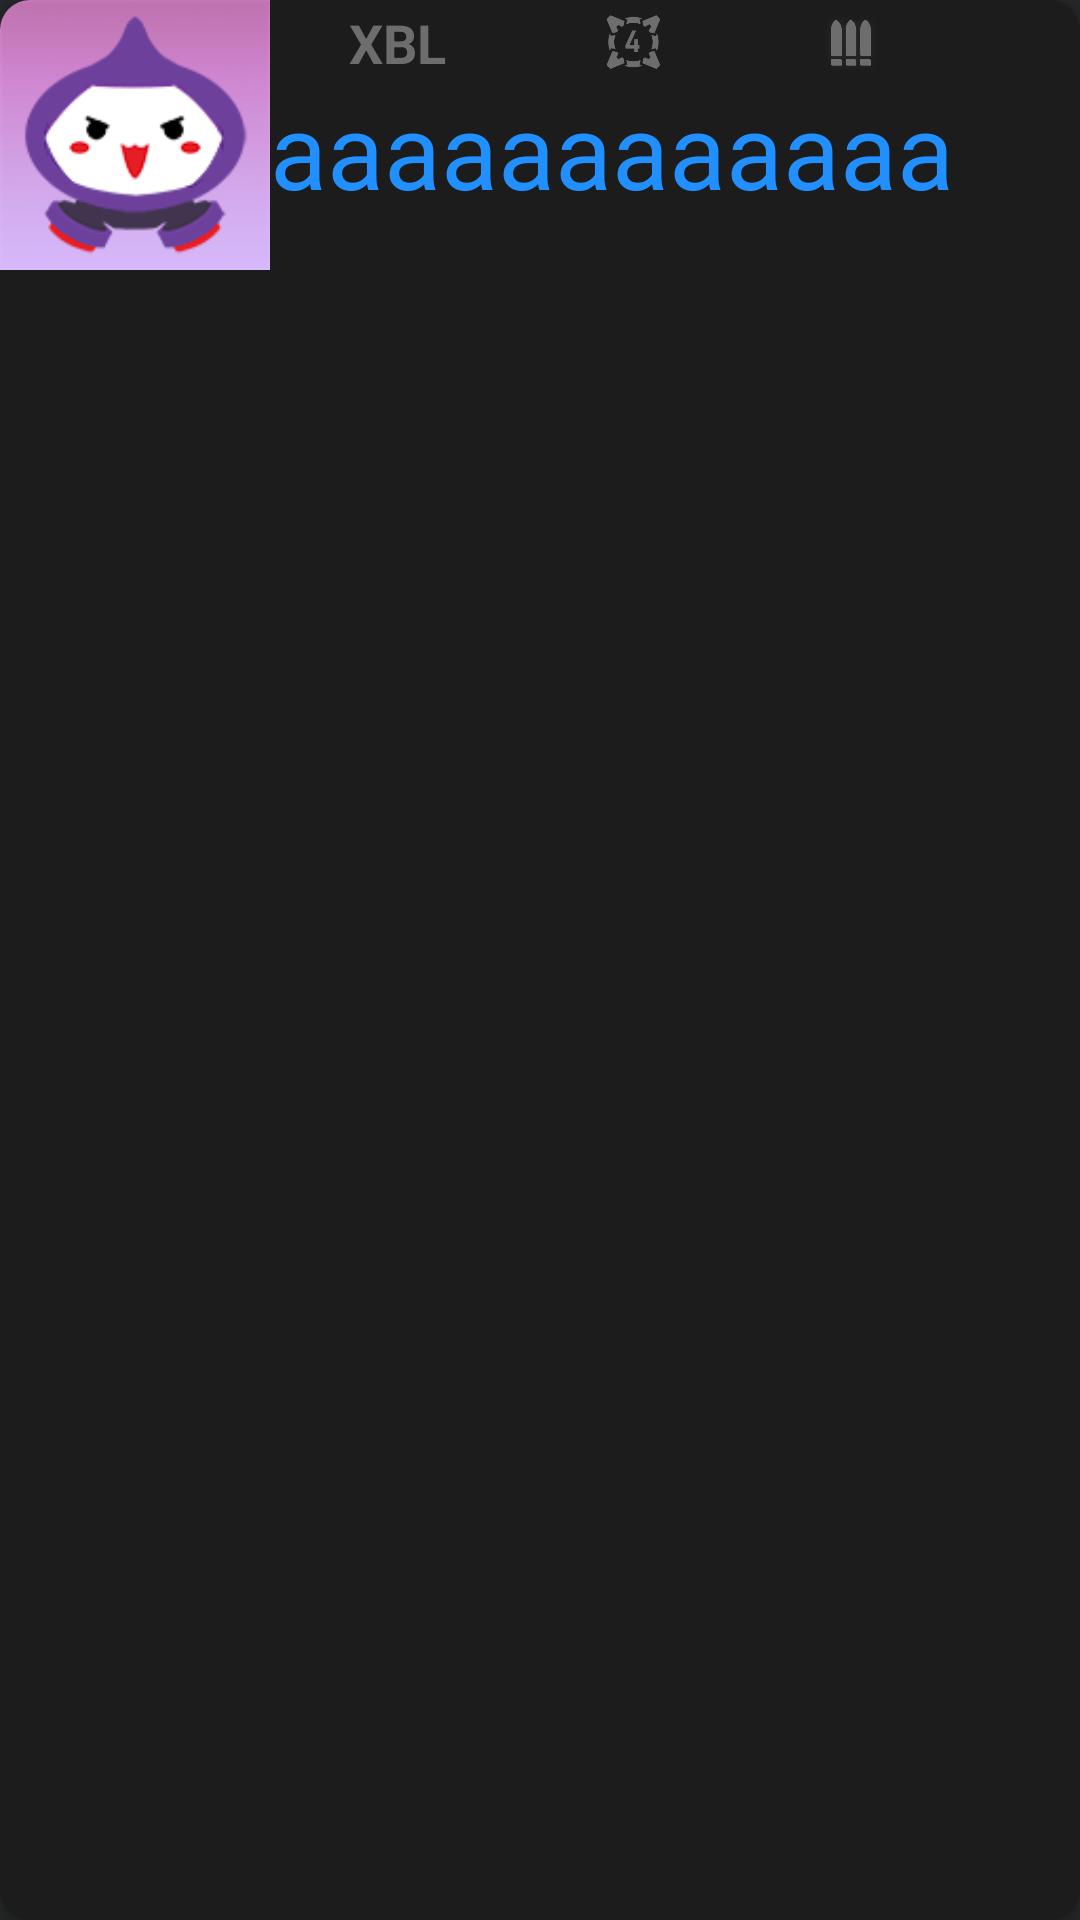

Where to tap for icons on this 1080 x 1920 app screen, as point (x, y):
damage: point (851, 43)
endorsement: point (633, 42)
